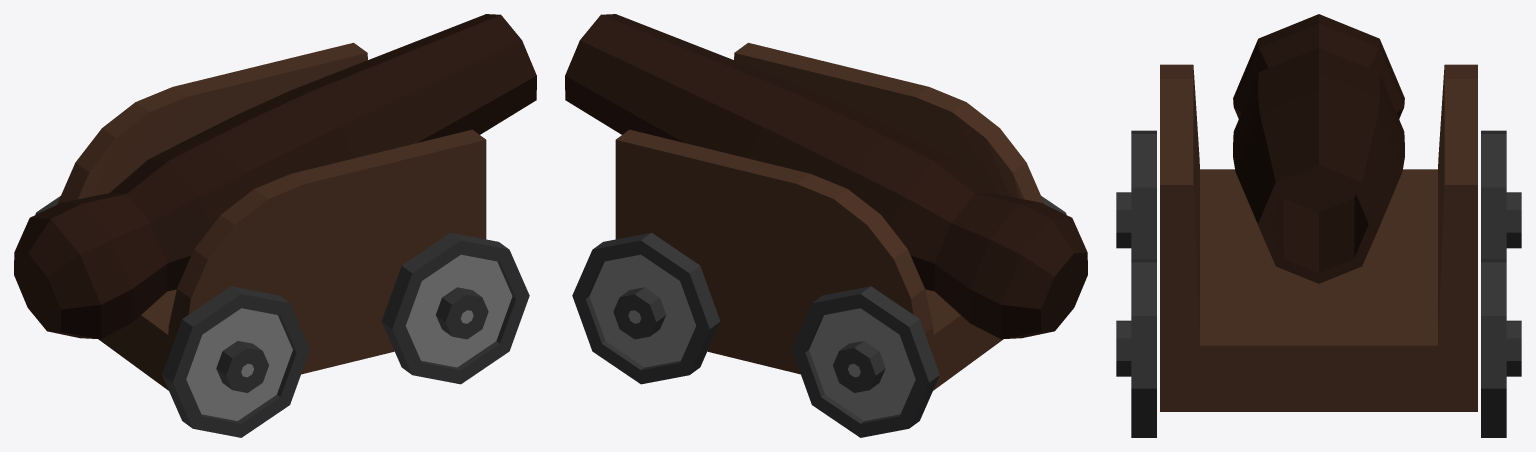
Rendered from Canon.fbx.
3 renders of one model, left to right at view 1: azimuth 30°, elevation 25°; view 2: azimuth 150°, elevation 25°; view 3: azimuth 270°, elevation 25°, orthographic. The views are drawn at different scales.
Visible parts, largest first — view 1: Cube, Cylinder, Cylinder.002, Cylinder.001; view 2: Cube, Cylinder, Cylinder.002, Cylinder.001; view 3: Cube, Cylinder, Cylinder.001, Cylinder.002.
Part boxes in pixels (left/top/right/bottom): Cube: left=58, top=42, right=486, bottom=390; Cylinder: left=14, top=14, right=536, bottom=339; Cylinder.002: left=35, top=196, right=309, bottom=437; Cylinder.001: left=381, top=232, right=529, bottom=384; Cube: left=615, top=42, right=1043, bottom=390; Cylinder: left=565, top=14, right=1087, bottom=339; Cylinder.002: left=792, top=196, right=1066, bottom=437; Cylinder.001: left=572, top=232, right=720, bottom=384; Cube: left=1160, top=64, right=1477, bottom=411; Cylinder: left=1233, top=14, right=1404, bottom=283; Cylinder.001: left=1116, top=259, right=1521, bottom=437; Cylinder.002: left=1116, top=130, right=1521, bottom=258.
Size of the model in its own units: 328 by 180 by 194.
